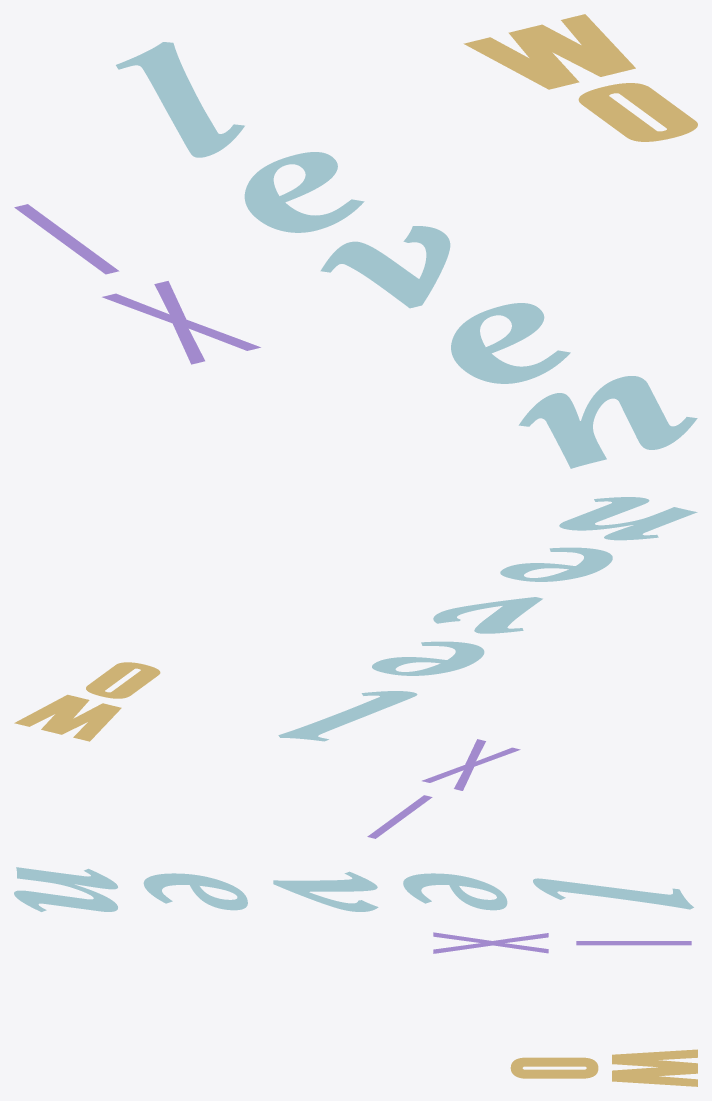
File: Password2.gltf
The picture shows the model from 3 angles, top to bottom: view 1: azimuth 30°, elevation 25°; view 2: azimuth 150°, elevation 25°; view 3: azimuth 270°, elevation 25°; orthographic projection. The views are drawn at different scales.
Visible parts, largest first — view 1: ASS, ASS.004, ASS.002; view 2: ASS, ASS.004, ASS.002; view 3: ASS, ASS.004, ASS.002.
Boxes of the visible parts, x1,y1,x2,y2 form: ASS: (116, 42, 697, 468); ASS.004: (463, 14, 697, 141); ASS.002: (14, 204, 260, 364); ASS: (278, 497, 697, 741); ASS.004: (14, 662, 160, 741); ASS.002: (367, 739, 520, 838); ASS: (14, 867, 693, 911); ASS.004: (510, 1049, 697, 1086); ASS.002: (433, 932, 691, 953).
Size of the model in its own units: 1.52 by 0.3058 by 2.37.
